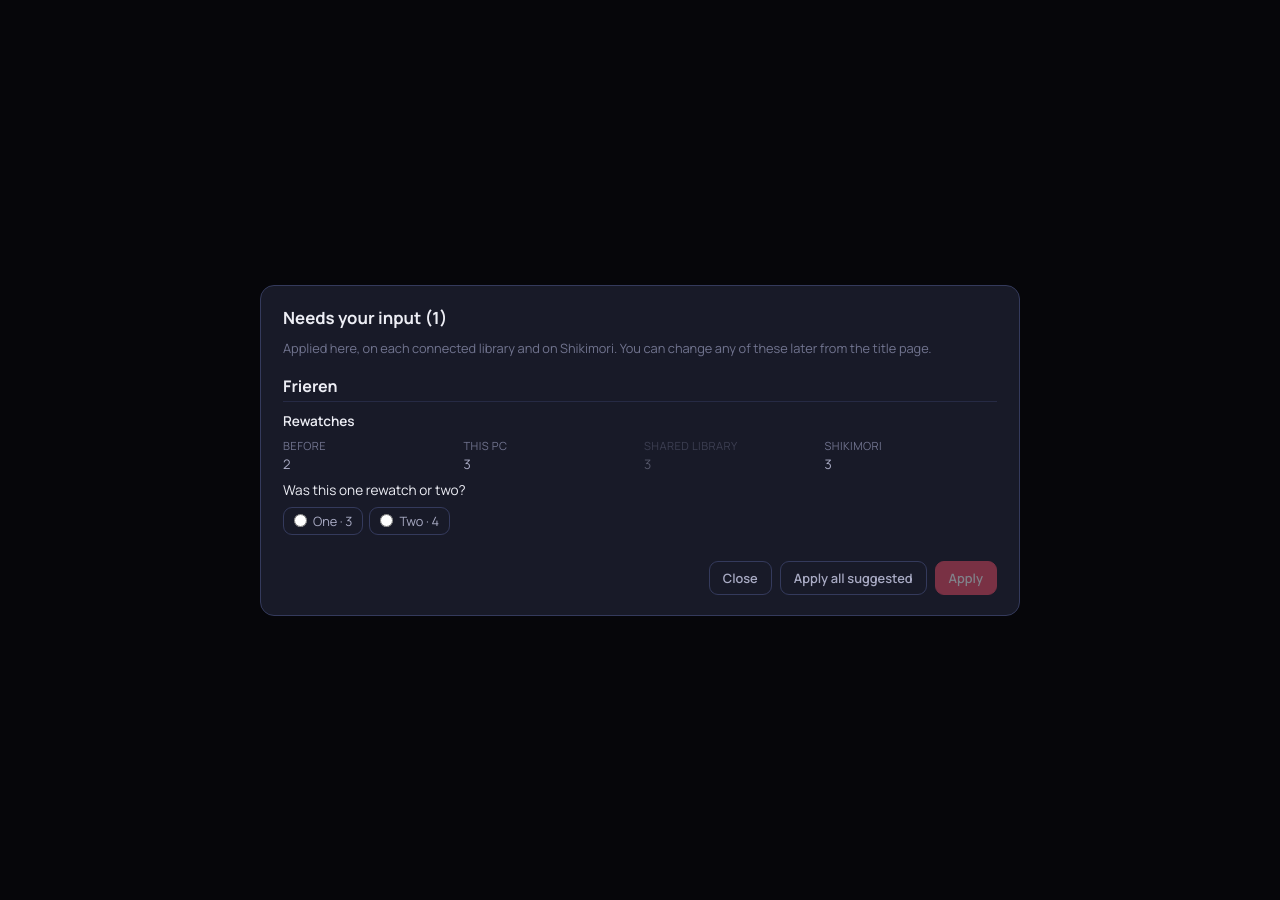
Test case: the review sheet › the rewatch question renders One / Two with no suggestion, and Apply sends the pick
expect the text with test id "rewatch-question" reads "Was this one rewatch or two?": met, box [283,480,466,498]
expect the elements with test id "conflict-choice" read "One · 3", "Two · 4", in this order: met, box [283,506,363,534]; [369,506,450,534]
Click the radio button labelled "Two · 4" at (387, 520), box [380,514,393,527]
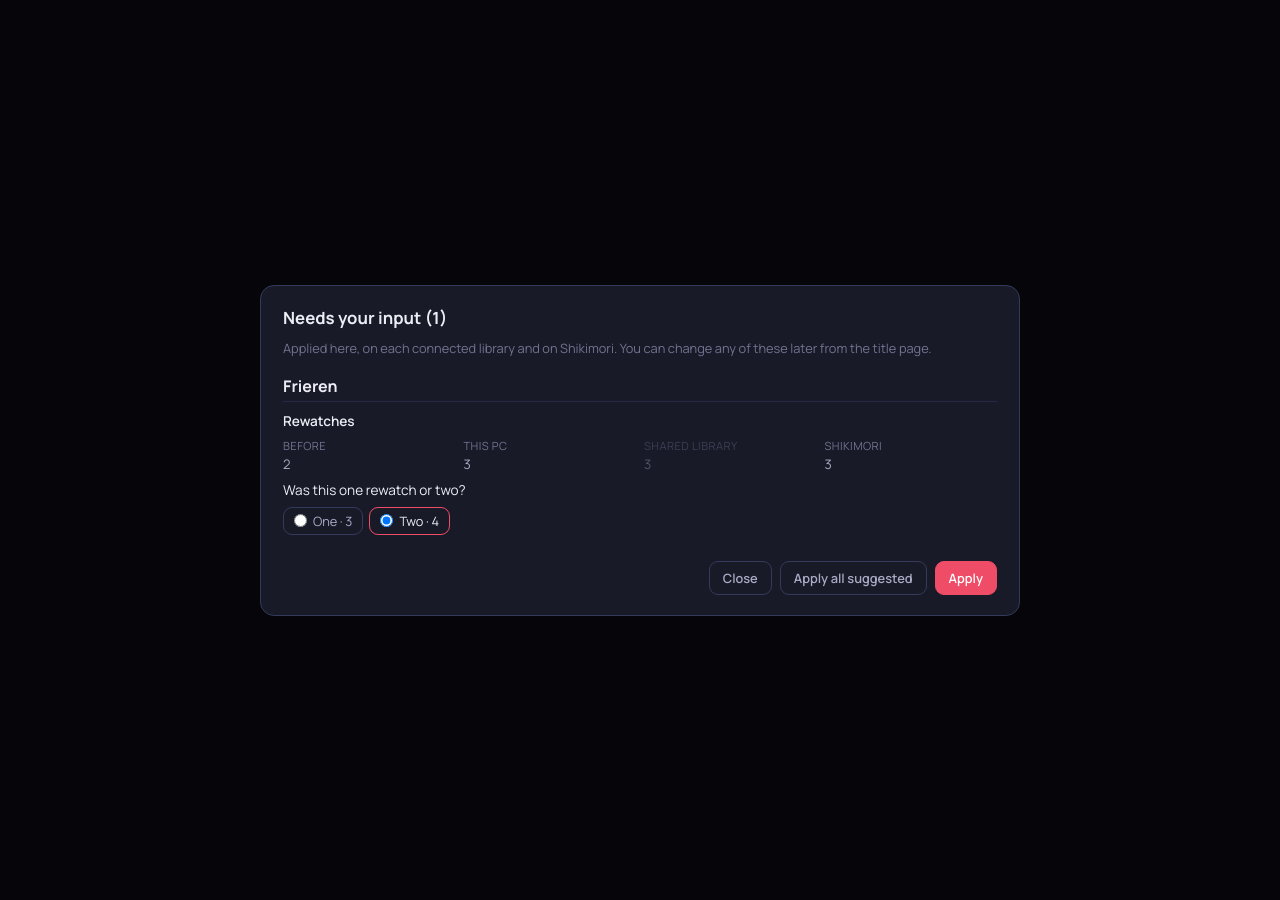
Click the button with test id "apply-picked" at (966, 578), box [935,560,997,594]
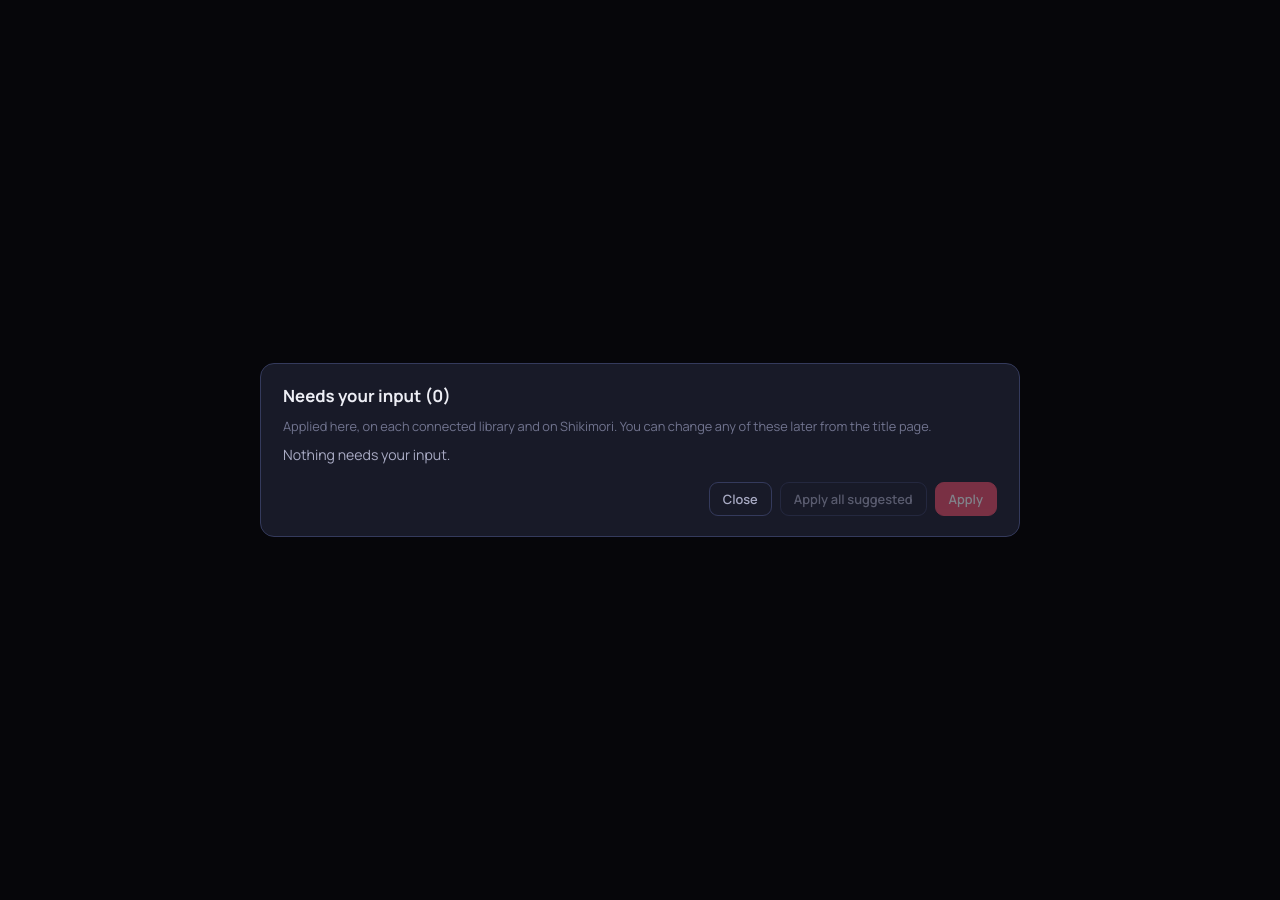
expect the text "Nothing needs your input." is shown: met, box [283,445,450,464]
